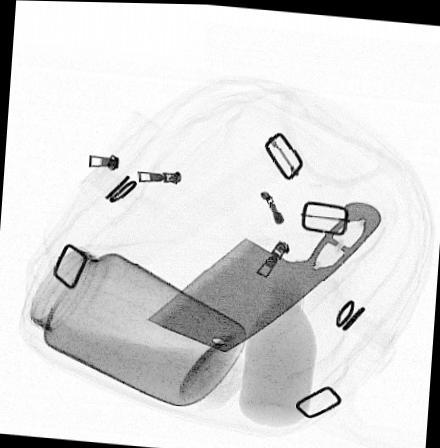Knife: (145, 197, 384, 351)
